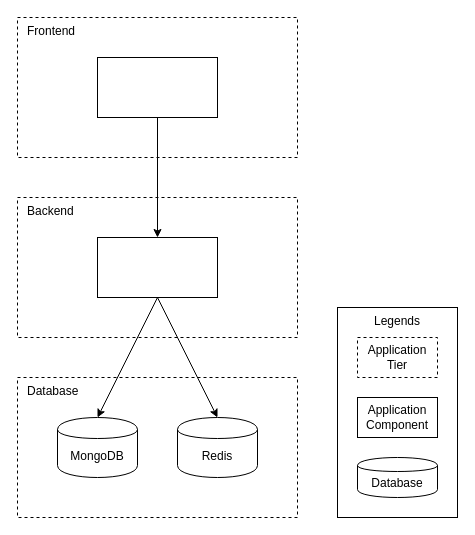
Image size: 475x535. Some labels were removed from this diagram. The centre of each missing label's shape, as x and y in pixels:
API Service: the point at 157,267
Web-based Application: the point at 157,87
